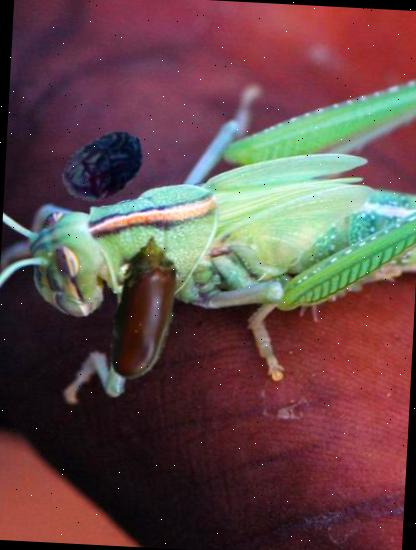Dates: (58, 120, 152, 214)
Eggplant: (65, 229, 223, 388)
